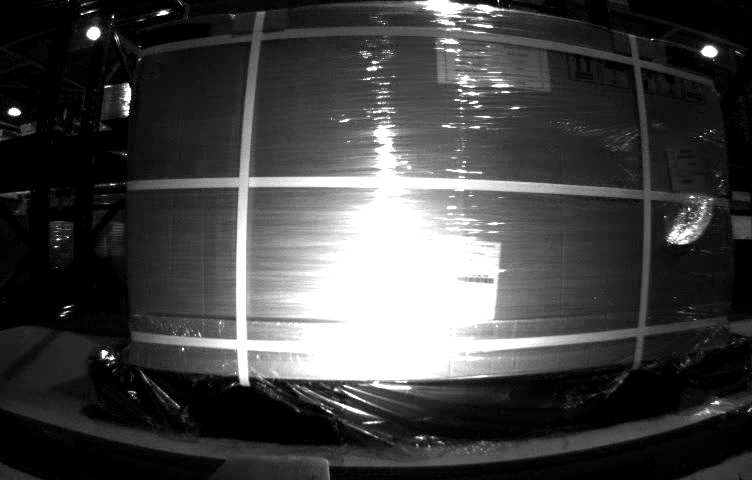True Barcode: (666, 145, 707, 192)
